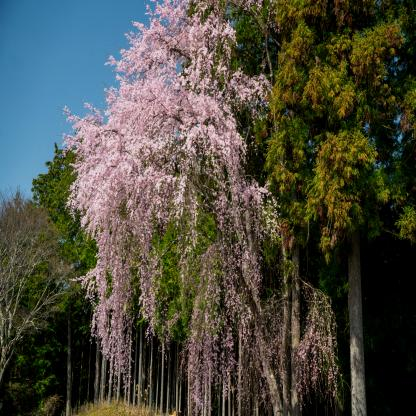ShidareZakura: (54, 0, 350, 416)
